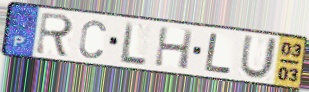C: (77, 18, 109, 60)
H: (152, 25, 195, 71)
L: (120, 20, 149, 66), (203, 32, 234, 75)
R: (33, 11, 76, 59)
U: (238, 34, 280, 81)
